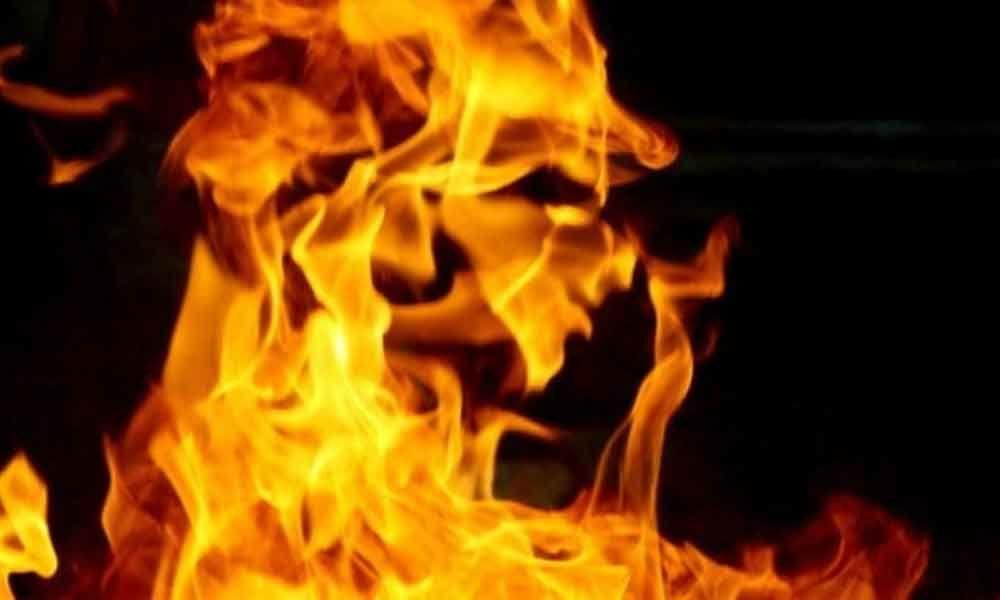Fire: (76, 9, 910, 587)
